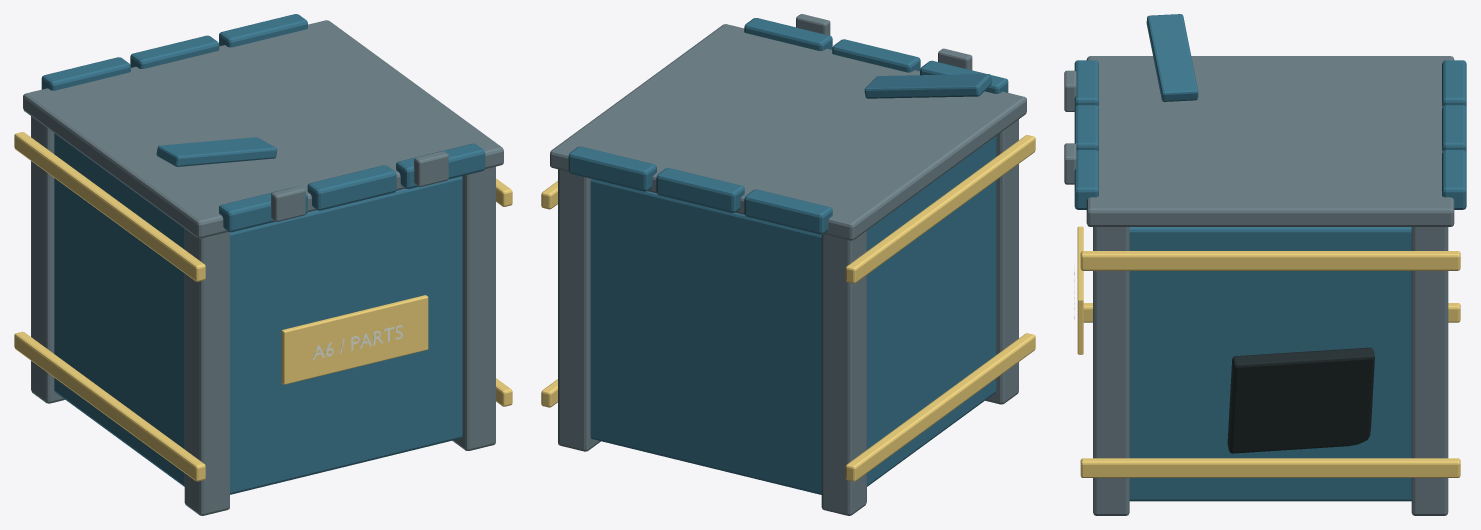
Rendered from cargo_crate_d1.glb.
The picture shows the model from 3 angles, left to right: view 1: azimuth 30°, elevation 25°; view 2: azimuth 150°, elevation 25°; view 3: azimuth 270°, elevation 25°; orthographic projection. The views are drawn at different scales.
Visible parts, largest first — view 1: Crate shell.007, Solid crate lid.007, Corner post.028, Corner post.030, Identification placard.007, Corner post.029, Vertical tie band.028, Vertical tie band.029, Lid slat.043, Peeled lid corner.002, Lid slat.044, Lid slat.042 (+5 smaller); view 2: Crate shell.007, Solid crate lid.007, Corner post.029, Corner post.031, Corner post.028, Vertical tie band.029, Vertical tie band.028, Peeled lid corner.002, Lid slat.045, Lid slat.047, Lid slat.046, Lid slat.043 (+2 smaller); view 3: Solid crate lid.007, Crate shell.007, Runover dent.002, Corner post.031, Corner post.030, Vertical tie band.031, Vertical tie band.030, Peeled lid corner.002, Lid slat.047, Lid slat.044, Lid slat.045, Lid slat.046 (+6 smaller).
Boxes of the visible parts, x1=… form: Crate shell.007: x1=54, y1=133, x2=462, y2=494; Solid crate lid.007: x1=23, y1=20, x2=503, y2=238; Corner post.028: x1=184, y1=229, x2=229, y2=515; Corner post.030: x1=452, y1=166, x2=495, y2=450; Identification placard.007: x1=281, y1=295, x2=428, y2=384; Corner post.029: x1=31, y1=116, x2=64, y2=403; Vertical tie band.028: x1=14, y1=331, x2=205, y2=481; Vertical tie band.029: x1=14, y1=132, x2=205, y2=281; Lid slat.043: x1=307, y1=165, x2=396, y2=210; Peeled lid corner.002: x1=156, y1=137, x2=277, y2=166; Lid slat.044: x1=396, y1=143, x2=485, y2=188; Lid slat.042: x1=219, y1=187, x2=307, y2=232; Crate shell.007: x1=590, y1=136, x2=996, y2=494; Solid crate lid.007: x1=550, y1=24, x2=1026, y2=240; Corner post.029: x1=821, y1=231, x2=866, y2=515; Corner post.031: x1=558, y1=169, x2=600, y2=451; Corner post.028: x1=985, y1=119, x2=1018, y2=404; Vertical tie band.029: x1=845, y1=135, x2=1035, y2=283; Vertical tie band.028: x1=845, y1=333, x2=1035, y2=481; Peeled lid corner.002: x1=864, y1=74, x2=992, y2=98; Lid slat.045: x1=744, y1=189, x2=832, y2=234; Lid slat.047: x1=568, y1=146, x2=656, y2=191; Lid slat.046: x1=656, y1=168, x2=744, y2=212; Lid slat.043: x1=832, y1=39, x2=920, y2=72; Solid crate lid.007: x1=1086, y1=56, x2=1454, y2=226; Crate shell.007: x1=1129, y1=227, x2=1411, y2=501; Runover dent.002: x1=1227, y1=347, x2=1374, y2=453; Corner post.031: x1=1411, y1=227, x2=1448, y2=515; Corner post.030: x1=1093, y1=227, x2=1129, y2=515; Vertical tie band.031: x1=1080, y1=251, x2=1460, y2=270; Vertical tie band.030: x1=1080, y1=458, x2=1460, y2=477; Peeled lid corner.002: x1=1146, y1=14, x2=1198, y2=101; Lid slat.047: x1=1442, y1=150, x2=1466, y2=209; Lid slat.044: x1=1074, y1=150, x2=1098, y2=209; Lid slat.045: x1=1442, y1=60, x2=1466, y2=107; Lid slat.046: x1=1442, y1=105, x2=1466, y2=152.
Size of the model in its own units: 2 by 1.91 by 1.97.
